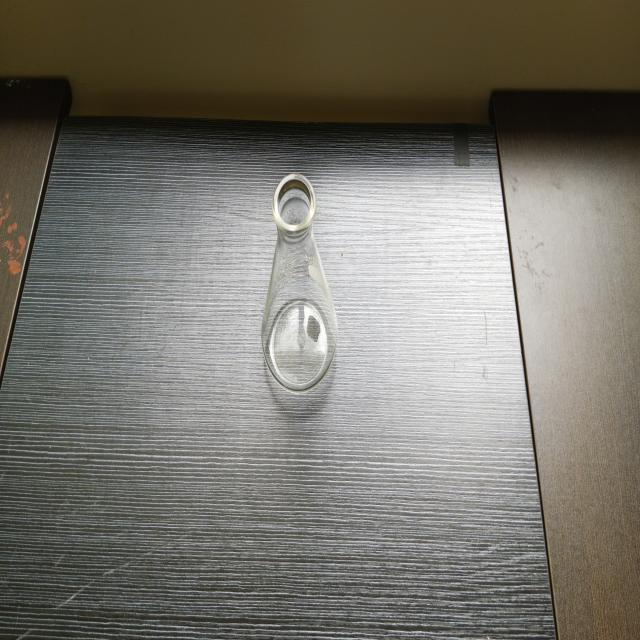erlenmeyer_flask: (254, 168, 343, 407)
